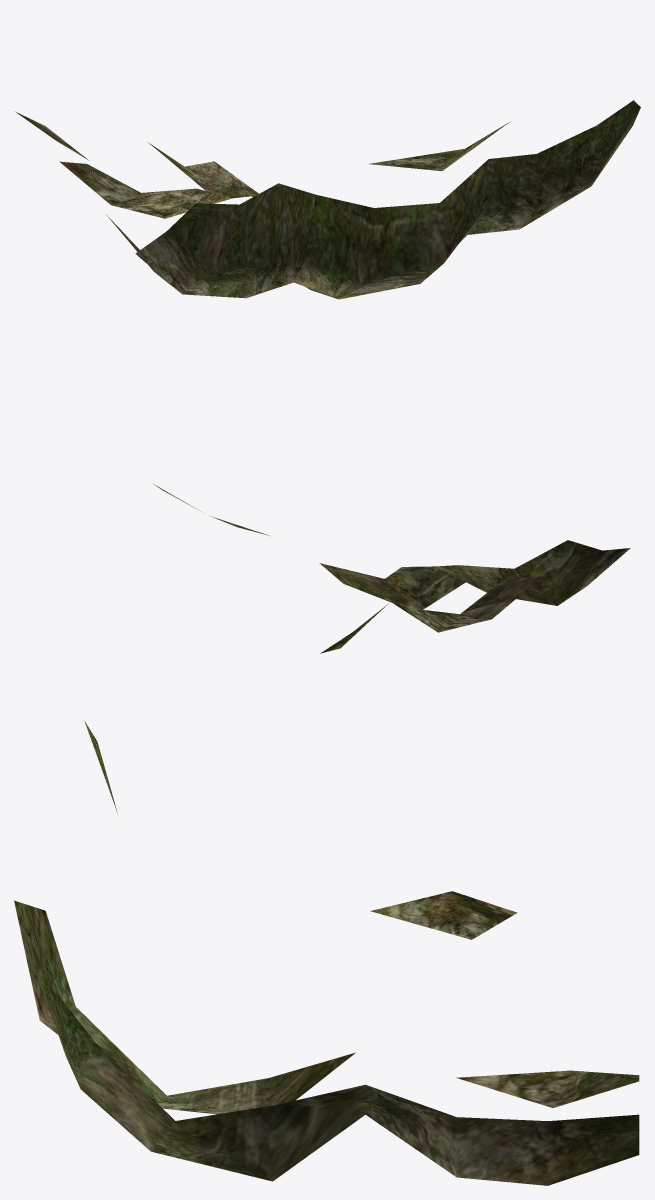
3 views of the same model, one above another, from view 1: azimuth 30°, elevation 25°; view 2: azimuth 150°, elevation 25°; view 3: azimuth 270°, elevation 25° (orthographic). The views are drawn at different scales.
Visible parts, largest first — view 1: model_Object08; view 2: model_Object08; view 3: model_Object08.
Boxes of the visible parts, box(x1,y1,x2,y2) form: model_Object08: box(15, 100, 640, 299); model_Object08: box(154, 484, 630, 653); model_Object08: box(14, 721, 639, 1185).
Bounding box in the file's own units: 4.24 × 1.44 × 2.91.
1 material, 1 textured.
